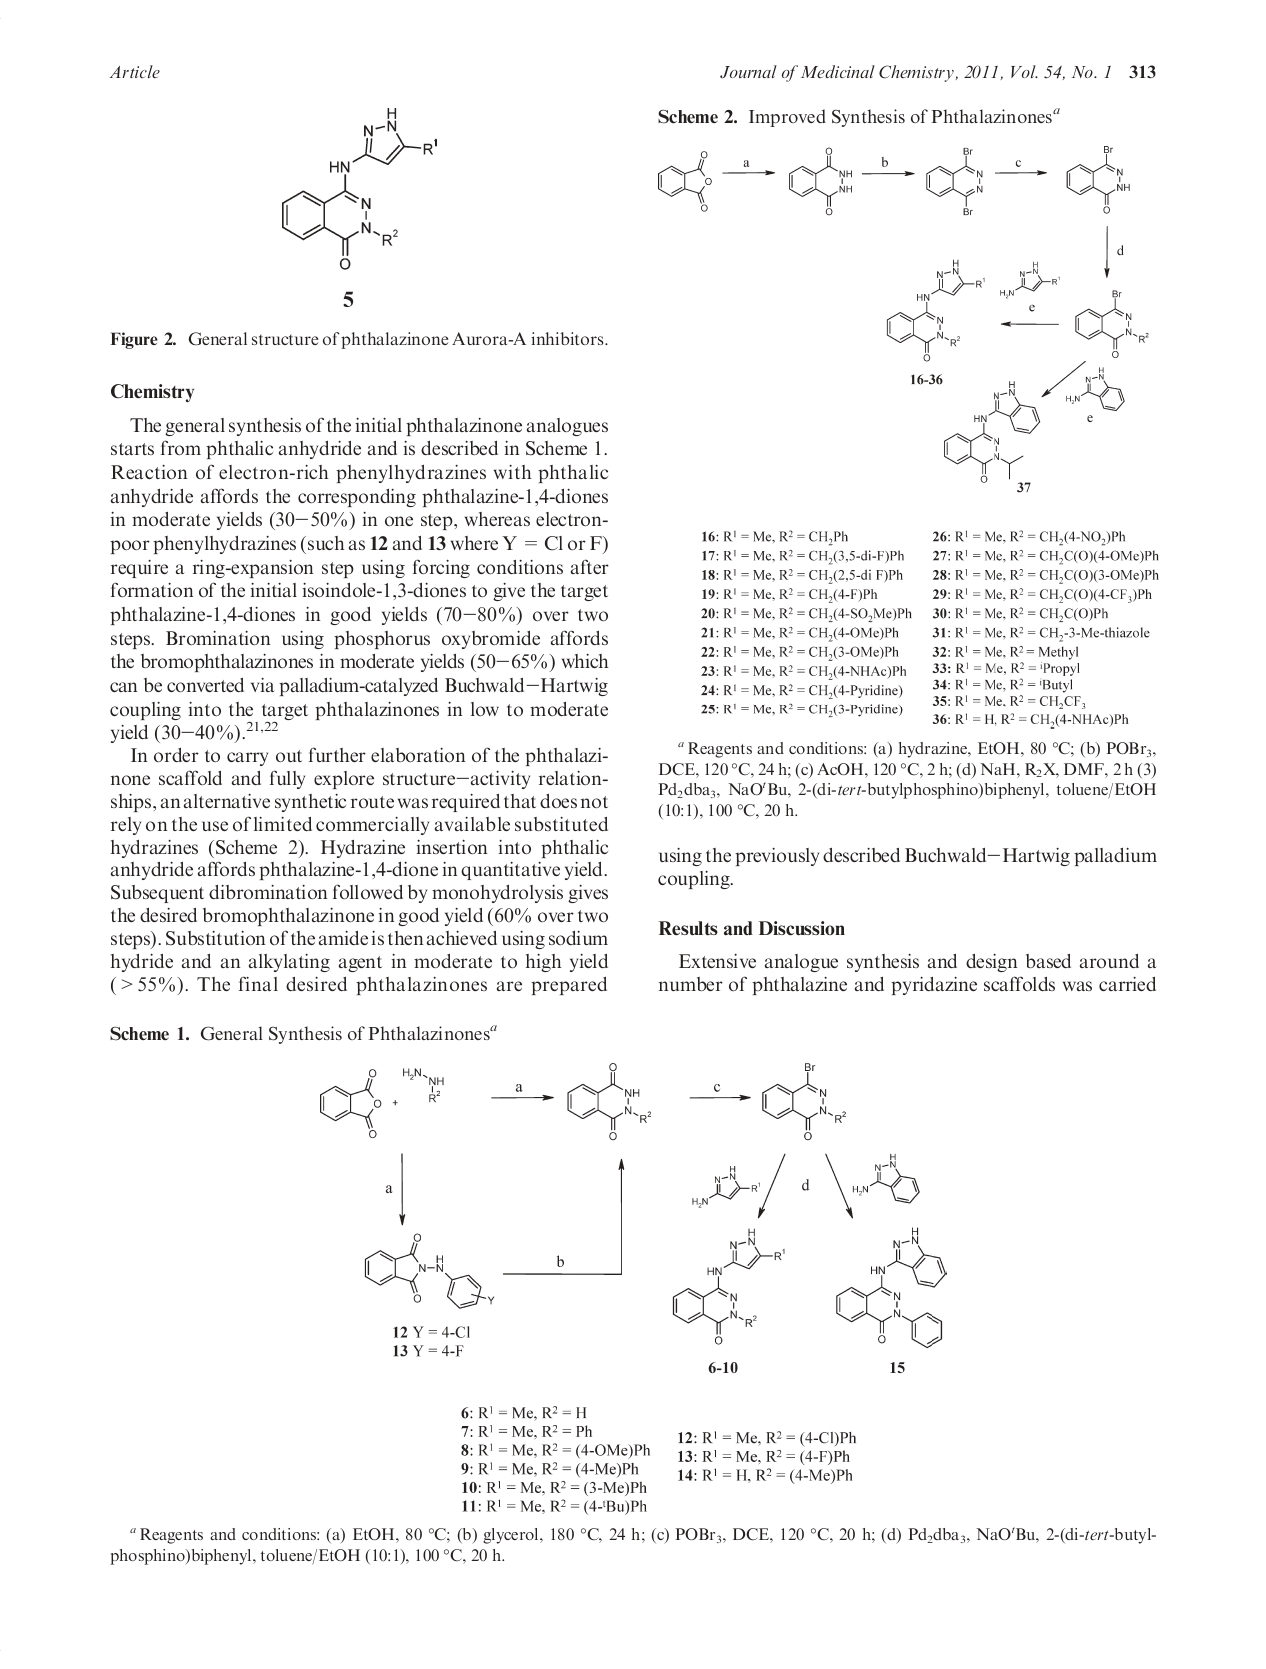exist_molecular: (271, 100, 443, 273), (834, 1223, 949, 1351), (668, 1223, 787, 1346), (880, 257, 989, 364), (358, 1229, 496, 1313), (940, 376, 1043, 485), (757, 1055, 851, 1144), (568, 1060, 653, 1144), (1072, 286, 1152, 360), (1063, 138, 1136, 217), (315, 1061, 386, 1141), (782, 142, 854, 219), (922, 144, 988, 217), (650, 144, 715, 215), (850, 1149, 922, 1208), (689, 1160, 762, 1208), (1063, 364, 1128, 414), (995, 255, 1063, 301), (398, 1063, 451, 1102)
